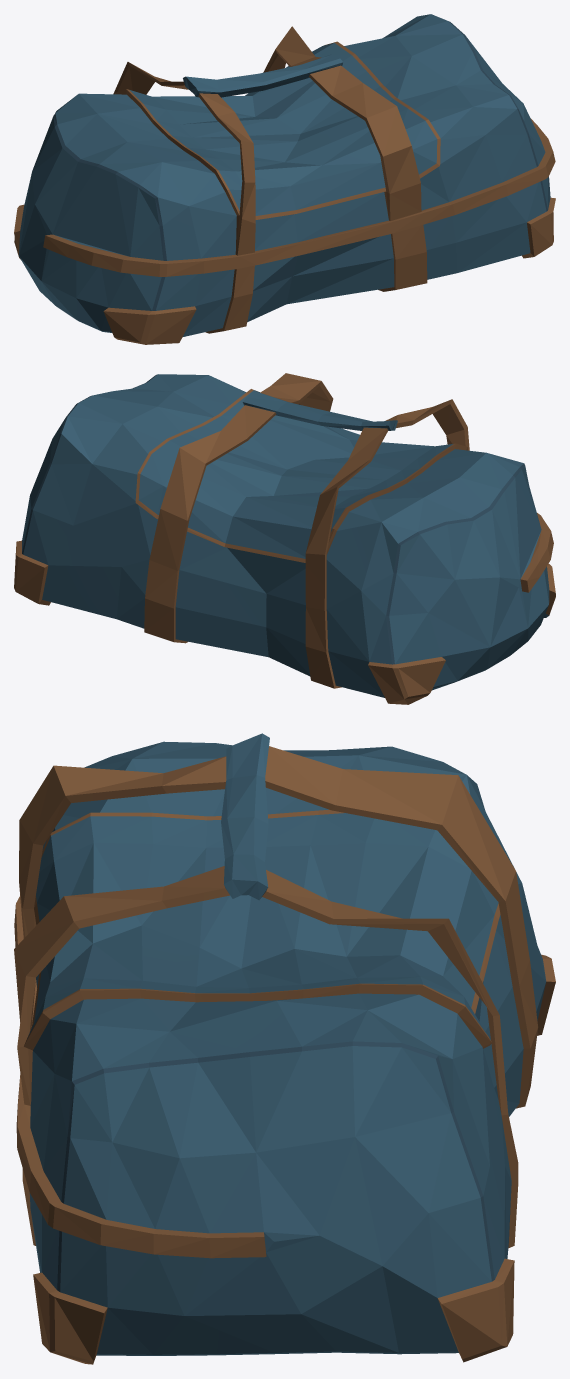
Rendered from Int_DuffelBag01_2.fbx.
3 views of the same model, one above another, from view 1: azimuth 30°, elevation 25°; view 2: azimuth 150°, elevation 25°; view 3: azimuth 270°, elevation 25° (orthographic). The views are drawn at different scales.
Parts seen in each view (by area): view 1: Int_DuffelBag01_2; view 2: Int_DuffelBag01_2; view 3: Int_DuffelBag01_2.
Boxes of the visible parts, x1,y1,x2,y2 form: Int_DuffelBag01_2: (14,14,555,344); Int_DuffelBag01_2: (14,373,555,704); Int_DuffelBag01_2: (14,733,555,1364).
Size of what is drawn, in the model's own units: 68.63 by 37.75 by 30.58.
